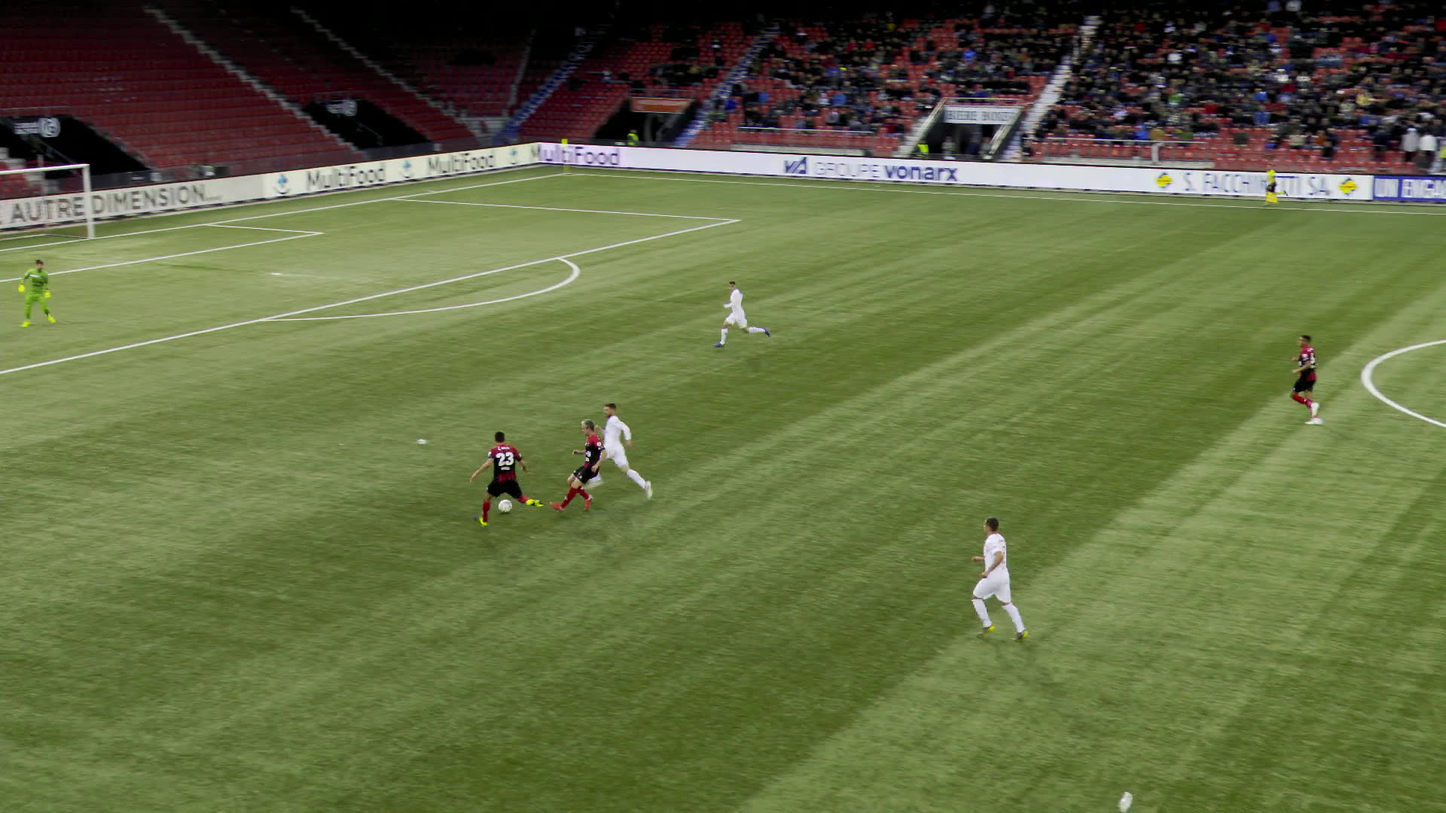ball: (497, 495, 513, 511)
player: (965, 518, 1027, 643), (469, 430, 545, 528), (593, 401, 650, 498), (554, 416, 604, 515), (1283, 331, 1329, 426), (717, 279, 769, 352), (16, 256, 56, 327)
referee: (1257, 163, 1287, 206)
